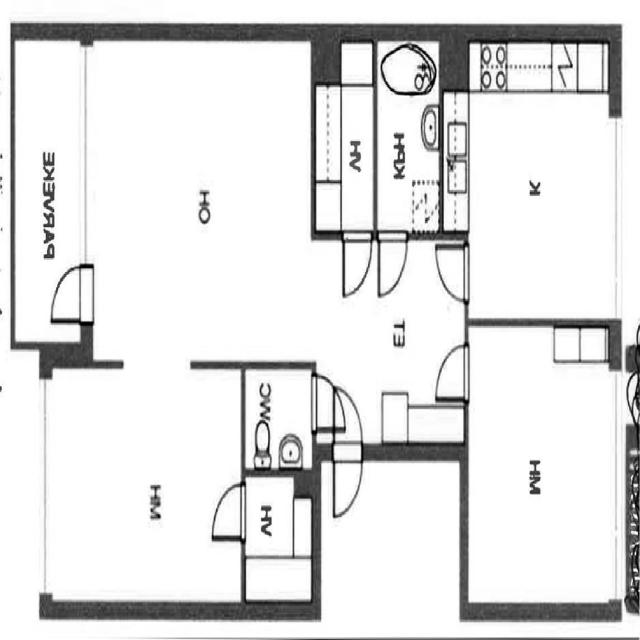door: (434, 238, 470, 404), (327, 379, 366, 522), (45, 258, 99, 326), (204, 474, 248, 548), (306, 367, 345, 439), (375, 225, 411, 302), (340, 227, 376, 300), (432, 238, 471, 304), (433, 339, 470, 403)
window: (67, 36, 98, 280), (612, 113, 628, 325)
zone: (85, 33, 317, 366), (41, 363, 244, 612), (450, 44, 617, 330), (466, 318, 622, 614), (377, 28, 442, 236), (314, 36, 374, 234), (243, 474, 316, 613), (245, 365, 314, 467)
